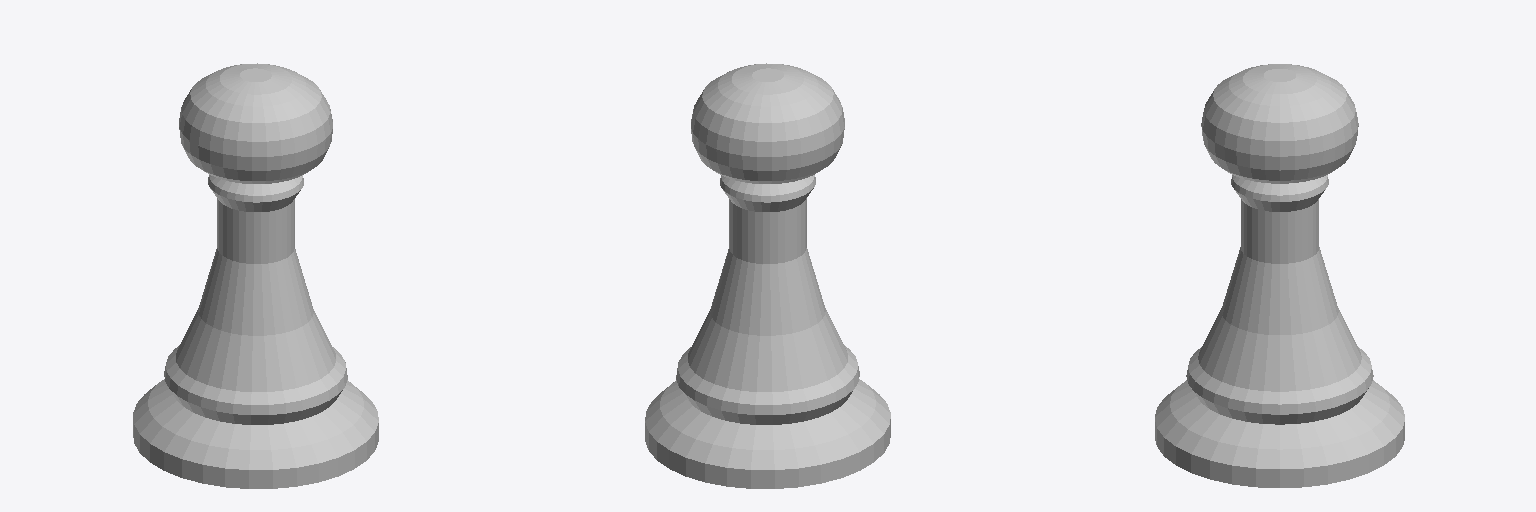
Rendered from pawn.obj.
3 views of the same model, side by side, from view 1: azimuth 30°, elevation 25°; view 2: azimuth 150°, elevation 25°; view 3: azimuth 270°, elevation 25° (orthographic).
Parts seen in each view (by area): view 1: Cylinder; view 2: Cylinder; view 3: Cylinder.
Boxes of the visible parts, x1,y1,x2,y2 form: Cylinder: [133, 63, 378, 488]; Cylinder: [645, 63, 890, 488]; Cylinder: [1155, 64, 1404, 487].
Bounding box in the file's own units: 0.7878 × 1.28 × 0.8072.